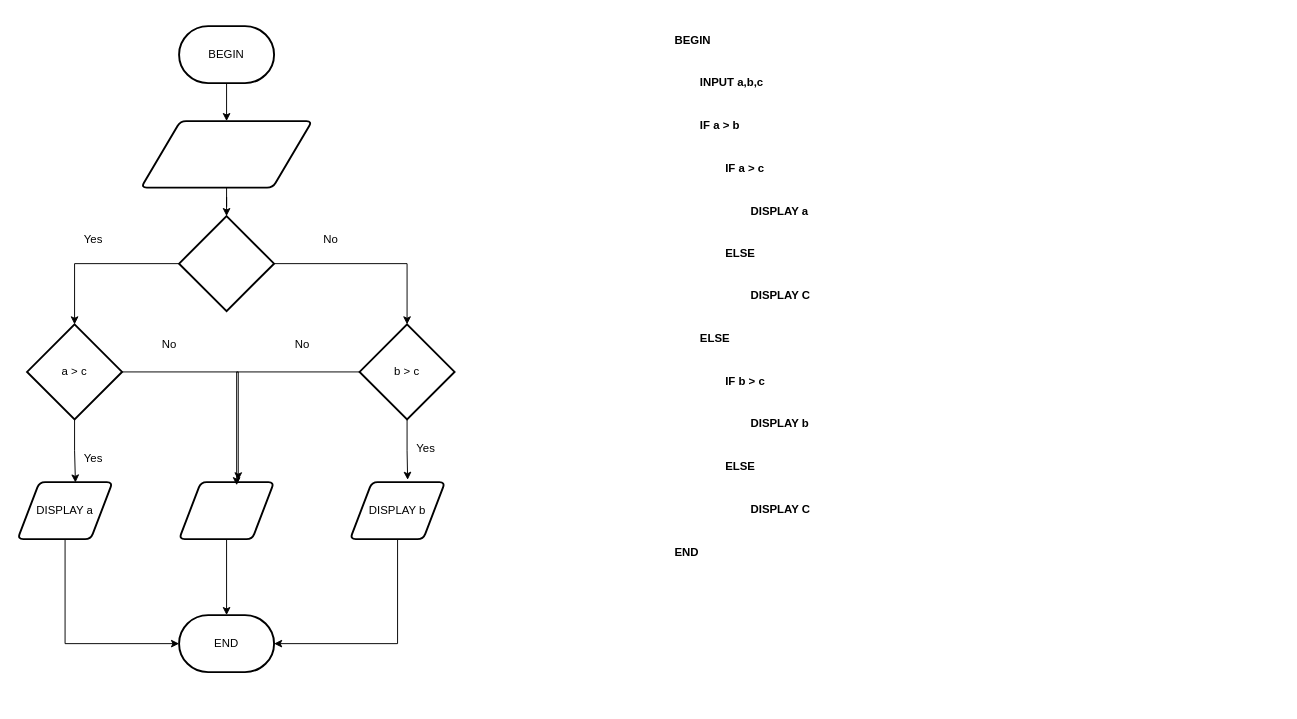
This 1297x719 diagram has some shape labels left out. Each missing label, with the centre of its shape:
"a > b" goes at point (226, 263).
"DISPLAY c" goes at point (226, 510).
"INPUT a,b,c" goes at point (226, 154).
